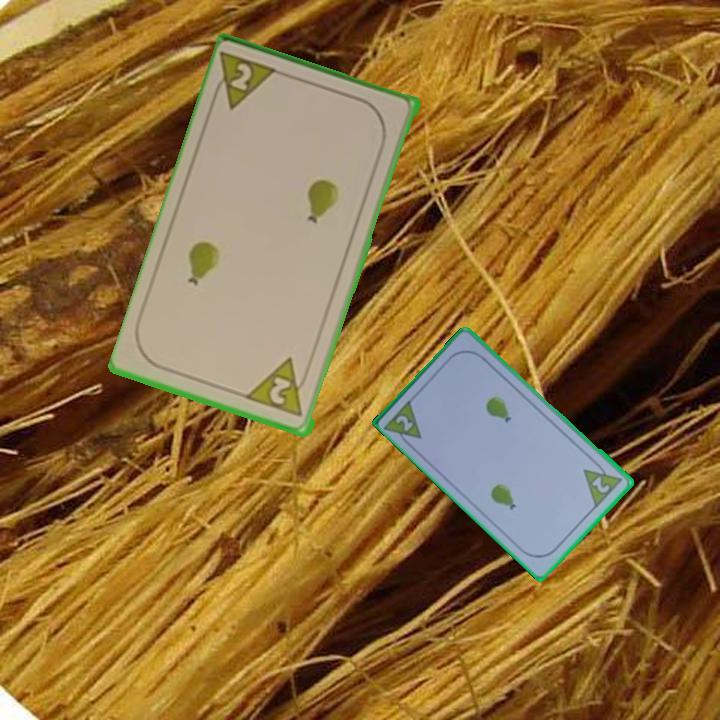2p: (245, 354, 312, 420), (580, 456, 626, 511), (227, 60, 255, 94), (392, 411, 417, 435)
